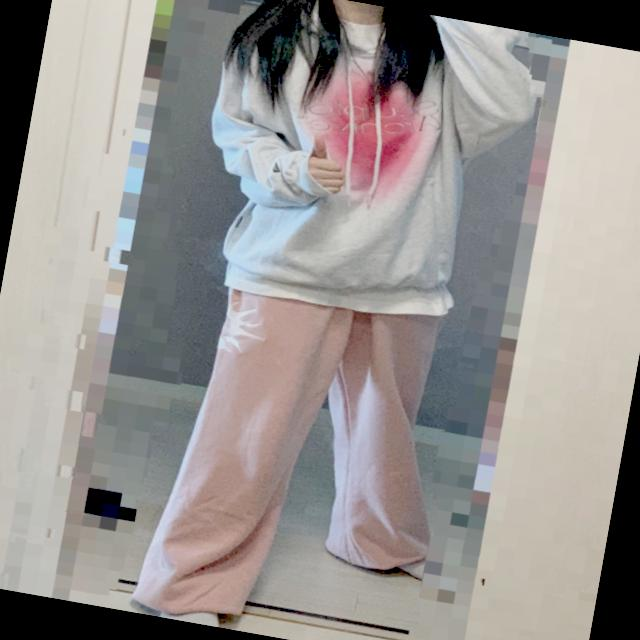hoodies: (180, 0, 543, 330)
trainingpants: (127, 268, 467, 640)
